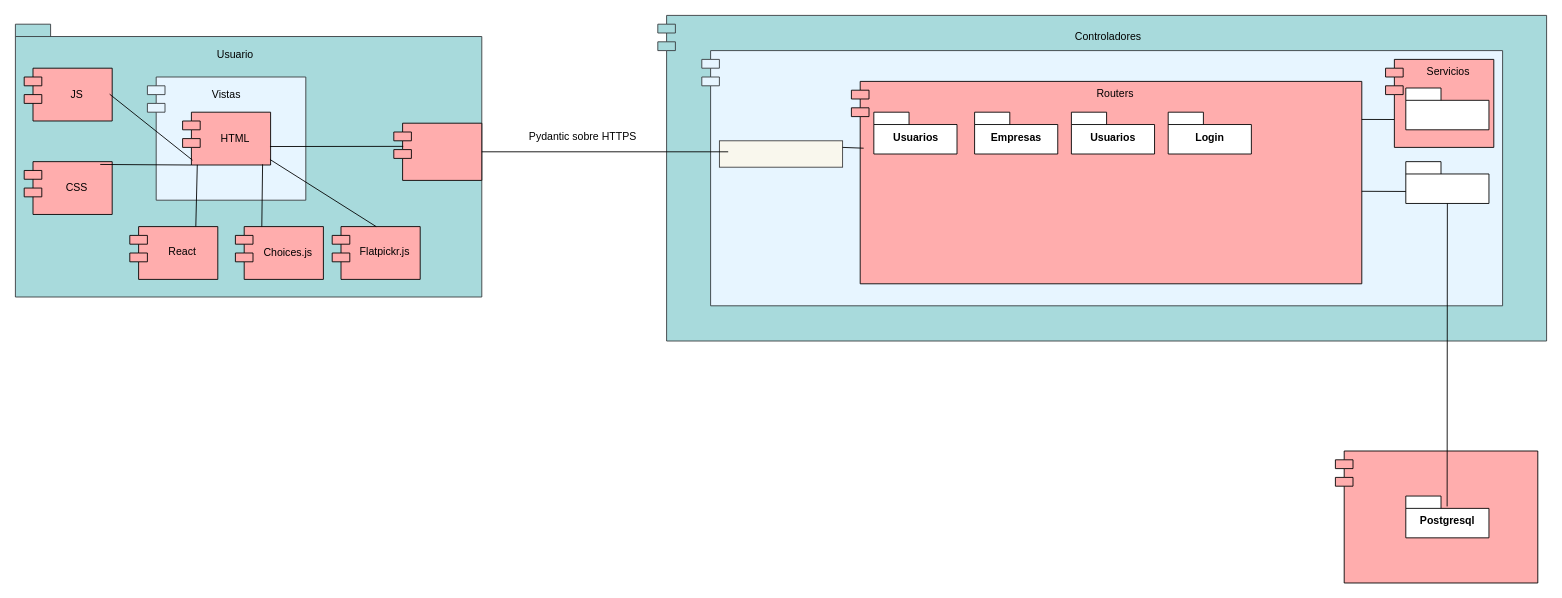
This 1562x598 diagram has some shape labels left out. The shapes that lost their labels are listed below. From the top down, each one's box as (x1, y1, x2, y2) in pixels, then its label:
(1405, 87, 1489, 130): Sendgrid
(393, 122, 482, 180): Solicitudad https post
(719, 140, 843, 167): Fast Api
(701, 50, 1503, 306): Poetry
(1405, 161, 1489, 203): SQLalchemy
(1335, 450, 1538, 583): RailWay
